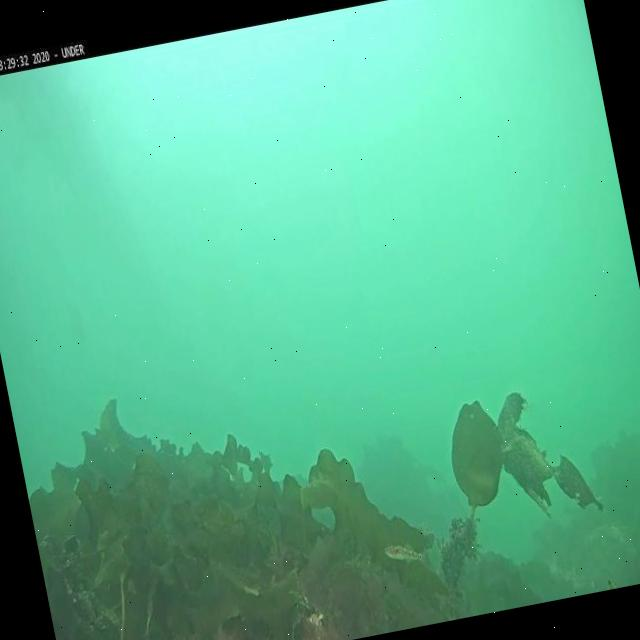fish: (382, 536, 426, 570)
